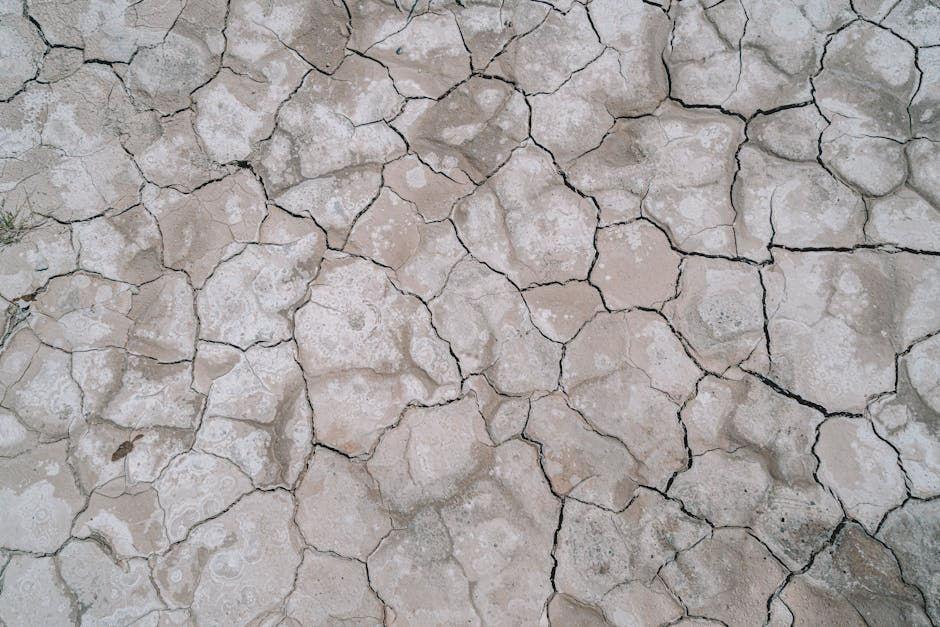细微裂纹: (719, 349, 854, 603), (634, 62, 885, 140), (682, 210, 915, 280)
网状裂隙: (17, 166, 626, 612)
